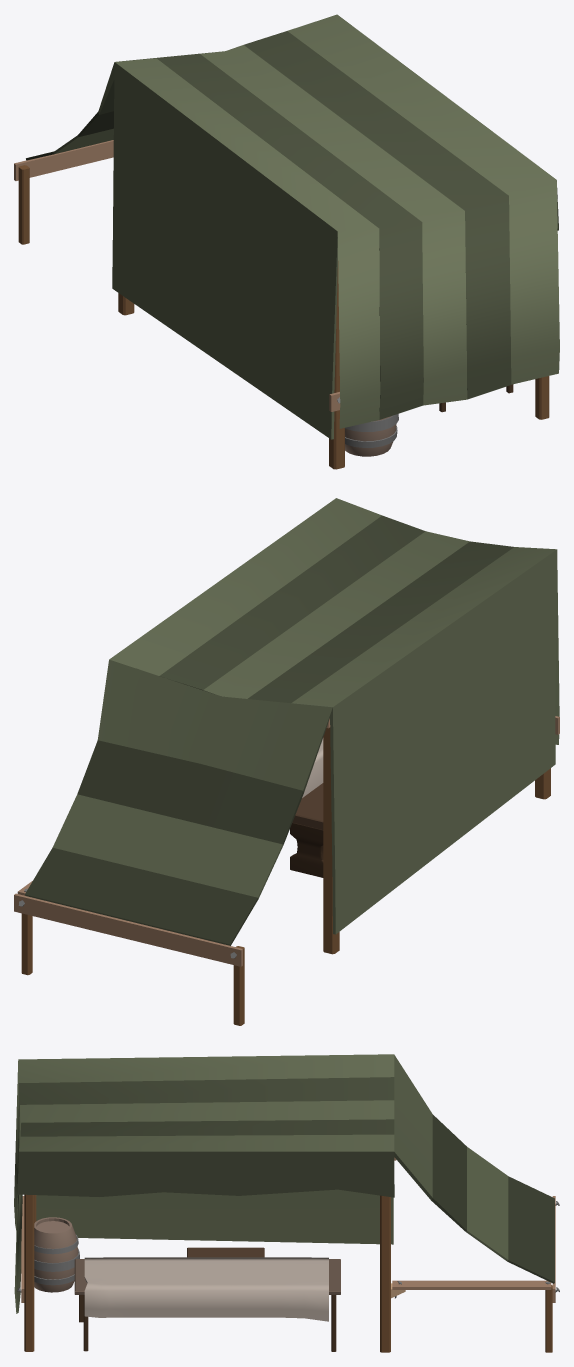
The model's file is StandLegumesSansCajettes.fbx.
The picture shows the model from 3 angles, top to bottom: view 1: azimuth 30°, elevation 25°; view 2: azimuth 150°, elevation 25°; view 3: azimuth 270°, elevation 25°; orthographic projection. The views are drawn at different scales.
Parts seen in each view (by area): view 1: StandLegumesSansCagettes:polySurface1263; view 2: StandLegumesSansCagettes:polySurface1263; view 3: StandLegumesSansCagettes:polySurface1263.
Part boxes in pixels (x1=…): StandLegumesSansCagettes:polySurface1263: x1=14, y1=14, x2=559, y2=469; StandLegumesSansCagettes:polySurface1263: x1=14, y1=498, x2=559, y2=1025; StandLegumesSansCagettes:polySurface1263: x1=14, y1=1054, x2=559, y2=1352.
Size of the model in its own units: 275 by 287 by 679.
